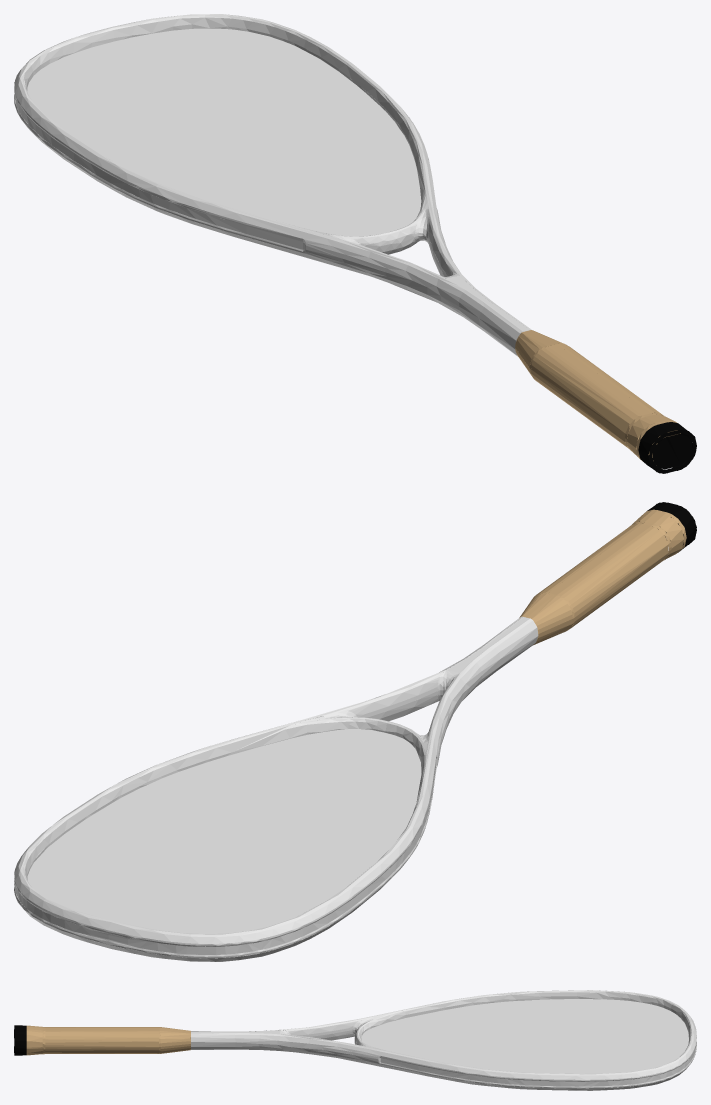
File: racket_with_face.fbx
The picture shows the model from 3 angles, top to bottom: view 1: azimuth 30°, elevation 25°; view 2: azimuth 150°, elevation 25°; view 3: azimuth 270°, elevation 25°; orthographic projection. The views are drawn at different scales.
Parts seen in each view (by area): view 1: face, frame, grip, gripend; view 2: face, frame, grip; view 3: face, frame, grip.
Part boxes in pixels (x1,y1,x2,y2): face: [27, 28, 421, 236]; frame: [14, 14, 531, 356]; grip: [515, 330, 696, 473]; gripend: [648, 429, 696, 473]; face: [27, 729, 421, 933]; frame: [14, 616, 538, 961]; grip: [519, 502, 696, 645]; face: [361, 999, 688, 1073]; frame: [191, 990, 696, 1090]; grip: [14, 1025, 190, 1055].
Bounding box in the file's own units: 209 × 27.7 × 688.
